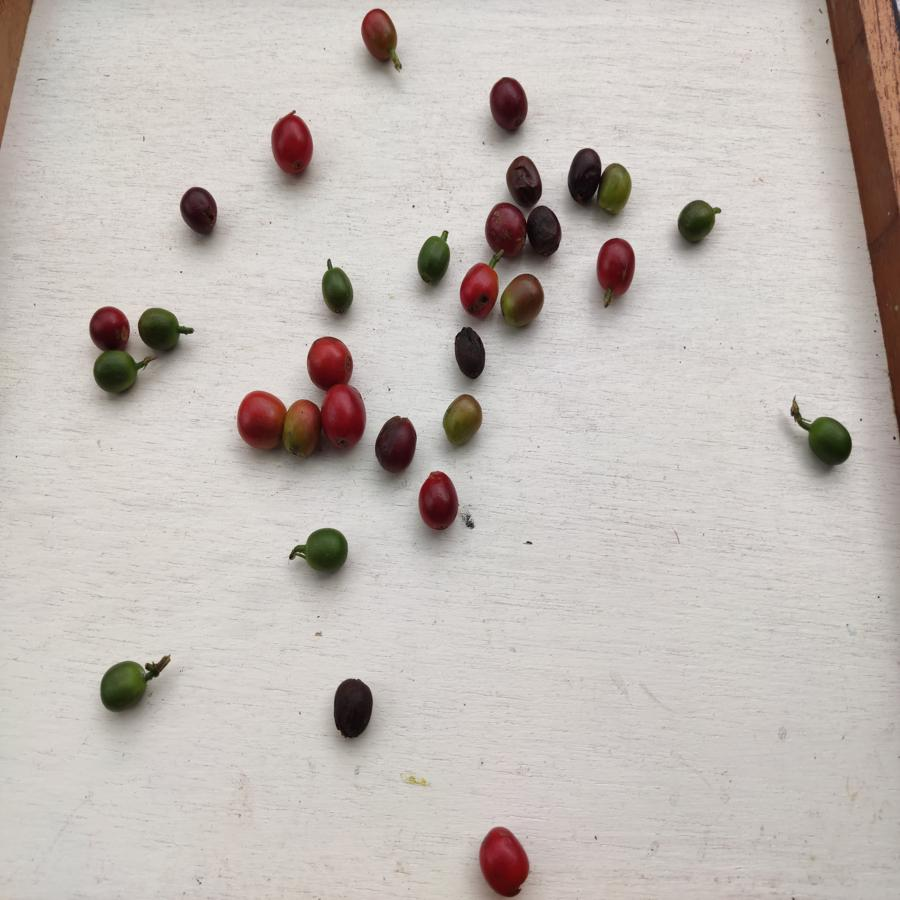Inmaduro: (797, 409, 858, 474), (97, 656, 149, 714), (299, 521, 352, 577), (674, 200, 727, 252), (137, 304, 184, 360), (314, 263, 361, 318), (91, 346, 138, 394), (413, 233, 451, 290), (602, 160, 632, 219)
Maduro: (474, 823, 535, 900), (234, 386, 285, 453), (321, 382, 368, 448), (270, 114, 315, 176), (304, 333, 355, 386), (362, 9, 402, 72), (459, 262, 496, 321)
Pinton: (502, 269, 545, 331), (284, 394, 322, 463), (443, 395, 485, 447)
Sobremaduro: (479, 75, 537, 138), (595, 234, 640, 310), (417, 467, 465, 535), (331, 677, 378, 745), (376, 412, 416, 477), (178, 185, 225, 240), (487, 202, 529, 259), (453, 324, 490, 382), (565, 144, 601, 202), (91, 306, 132, 350), (531, 206, 565, 258), (504, 155, 544, 199)
